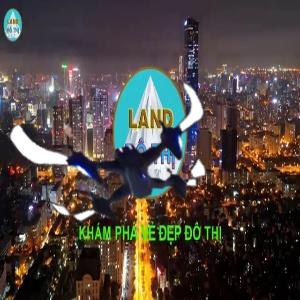drone: (33, 59, 226, 252)
